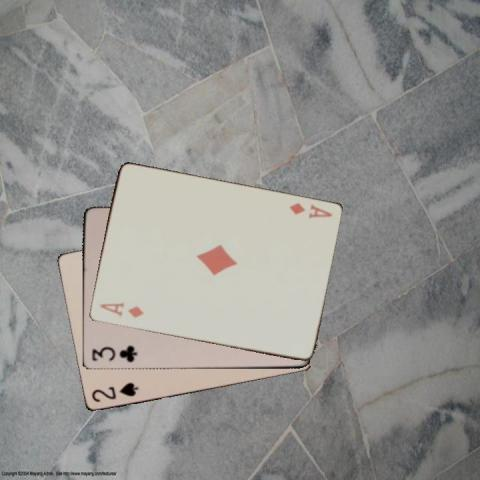2s: (88, 379, 140, 404)
3c: (89, 343, 138, 364)
Ad: (286, 200, 334, 221), (96, 300, 145, 320)
